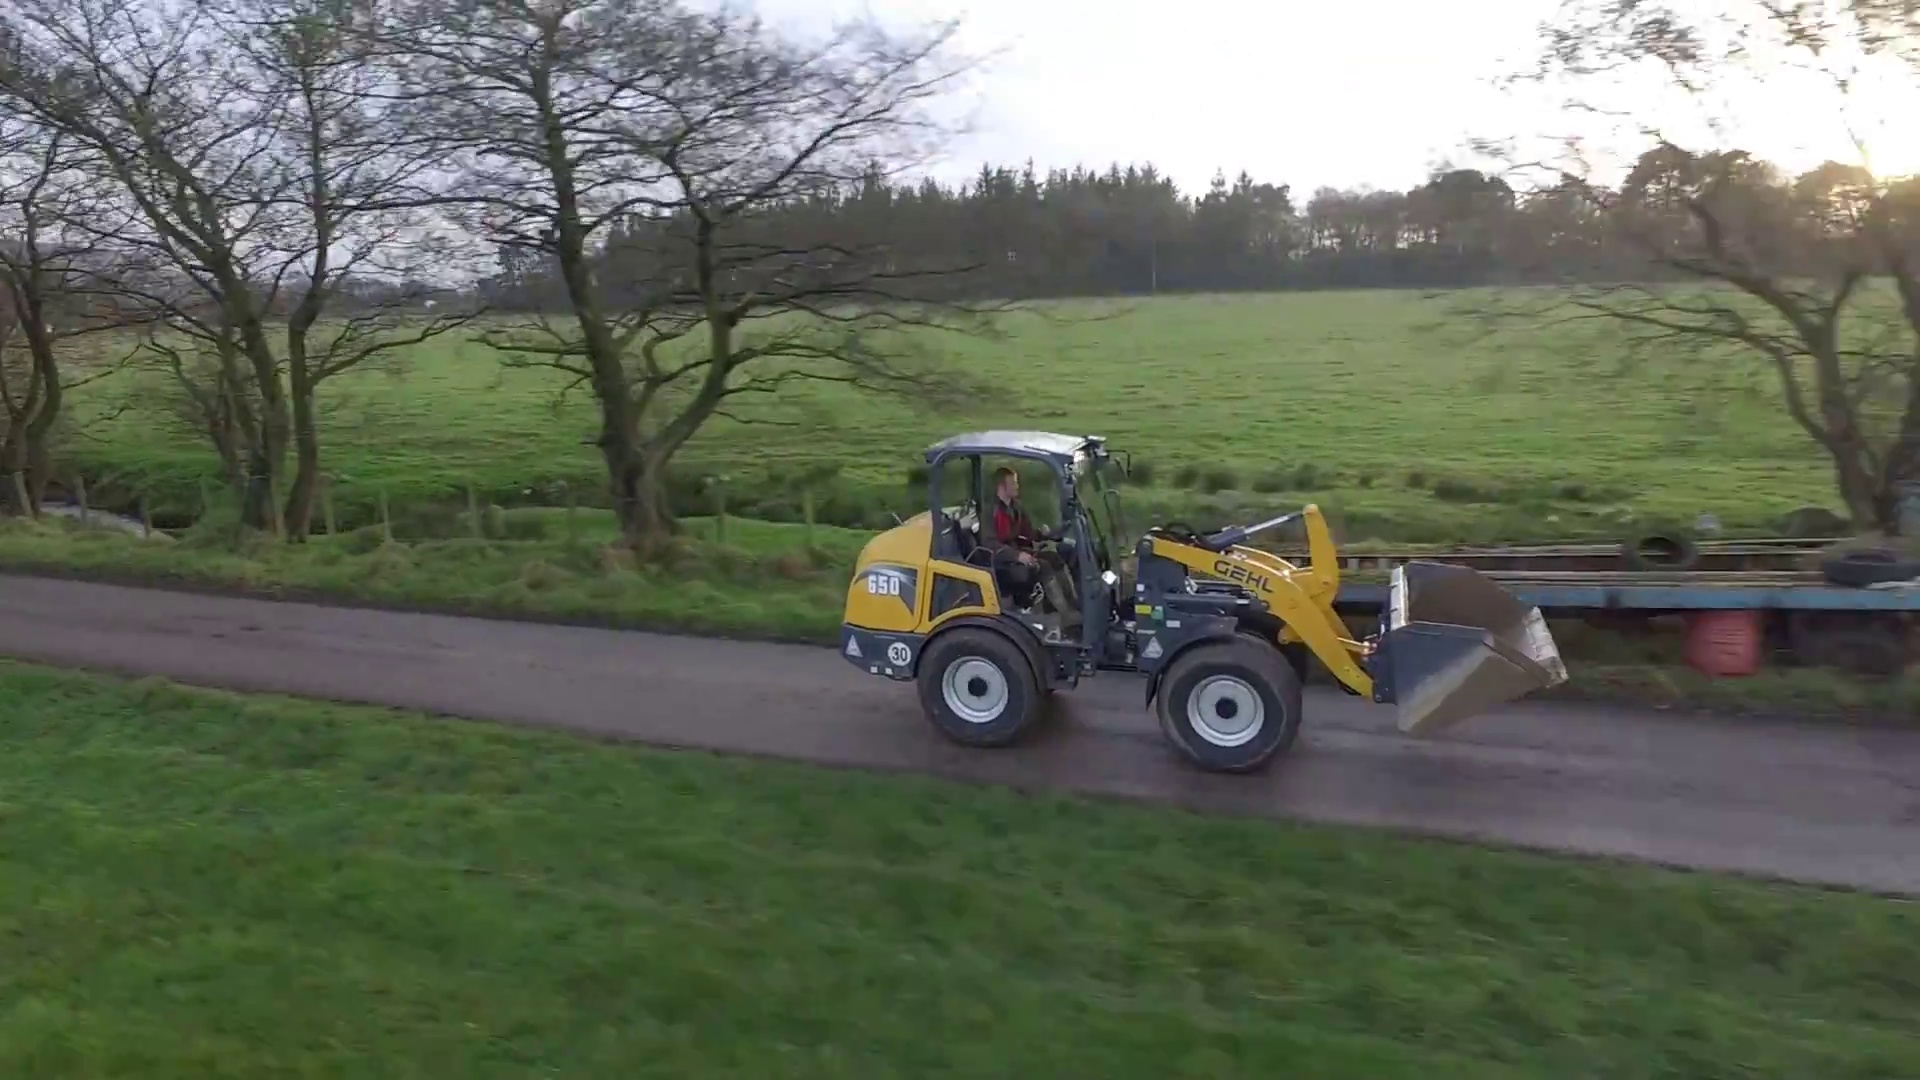person: (996, 467, 1051, 620)
wheel loader: (842, 429, 1574, 770)
